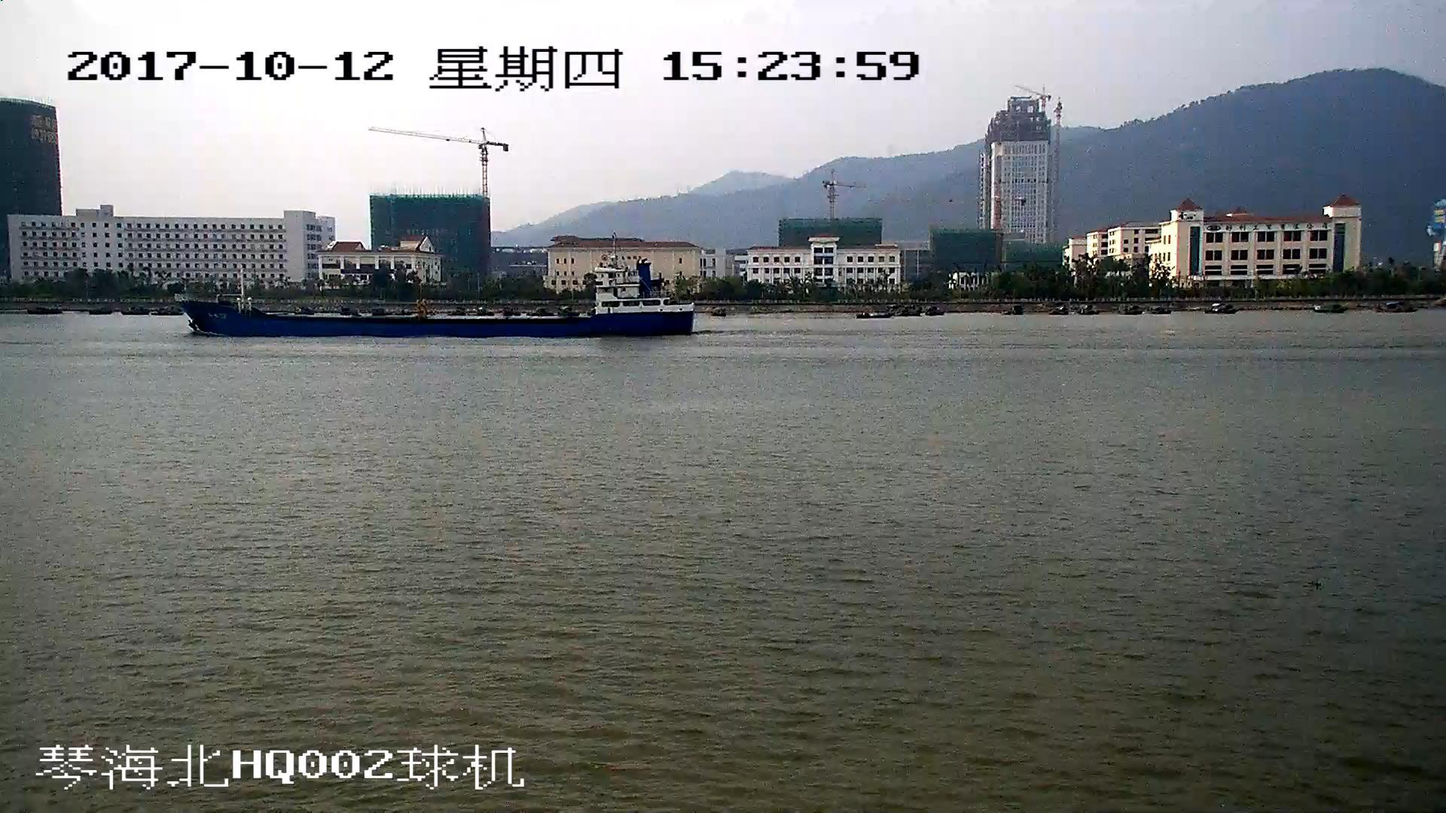general cargo ship: (172, 263, 692, 336)
